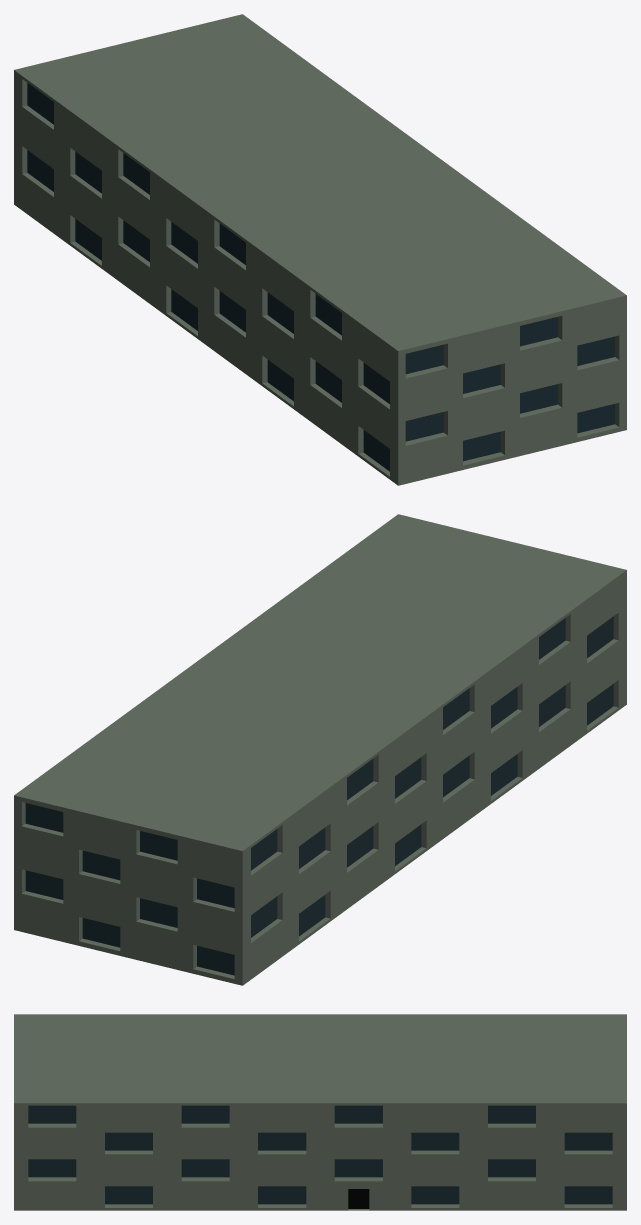
File: PredioFase3 2.fbx
The picture shows the model from 3 angles, top to bottom: view 1: azimuth 30°, elevation 25°; view 2: azimuth 150°, elevation 25°; view 3: azimuth 270°, elevation 25°; orthographic projection. The views are drawn at different scales.
Parts seen in each view (by area): view 1: Cube; view 2: Cube; view 3: Cube.
Boxes of the visible parts, box(x1,y1,x2,y2) form: Cube: box(14, 14, 626, 485); Cube: box(14, 514, 626, 985); Cube: box(14, 1014, 626, 1210).
Size of the model in its own units: 185 by 104 by 537.
